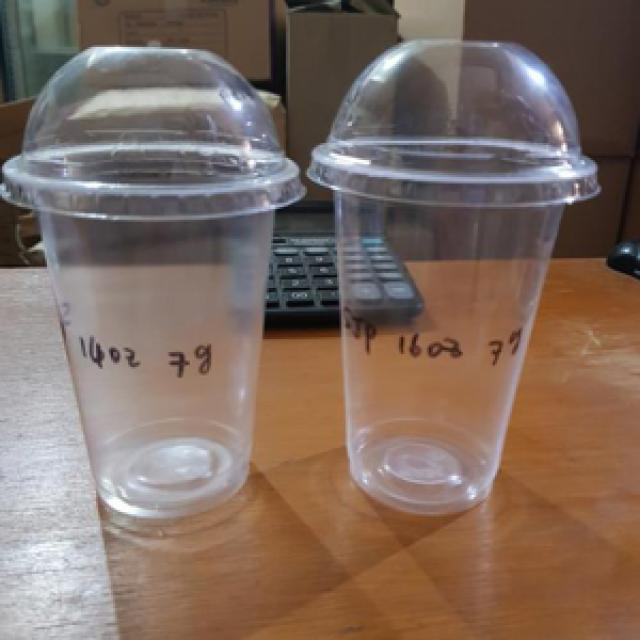plastic cup: (2, 39, 307, 532), (305, 32, 602, 527)
